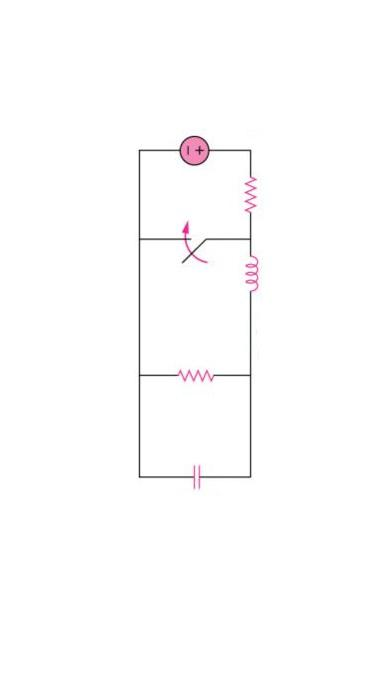resistor: (157, 344, 237, 394)
